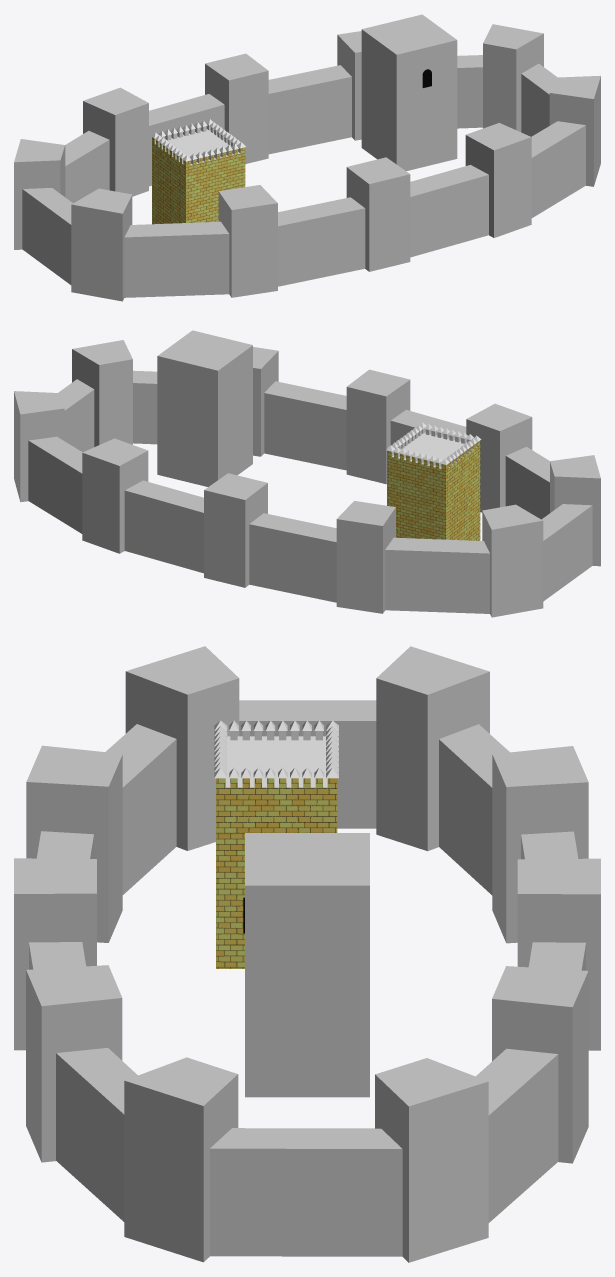
The model's file is Castillo2.fbx.
3 renders of one model, top to bottom at view 1: azimuth 30°, elevation 25°; view 2: azimuth 150°, elevation 25°; view 3: azimuth 270°, elevation 25°, orthographic. The views are drawn at different scales.
Parts seen in each view (by area): view 1: muralla, torre2, torre1; view 2: muralla, torre2, torre1; view 3: muralla, torre2, torre1.
Part boxes in pixels (x1,y1,x2,y2): muralla: (14, 24, 600, 301); torre2: (361, 14, 457, 171); torre1: (151, 119, 245, 224); muralla: (14, 340, 600, 617); torre2: (157, 330, 252, 486); torre1: (386, 422, 481, 540); muralla: (14, 646, 600, 1262); torre2: (243, 833, 369, 1097); torre1: (214, 720, 338, 968).
Bounding box in the file's own units: 5135 × 1494 × 2767.
